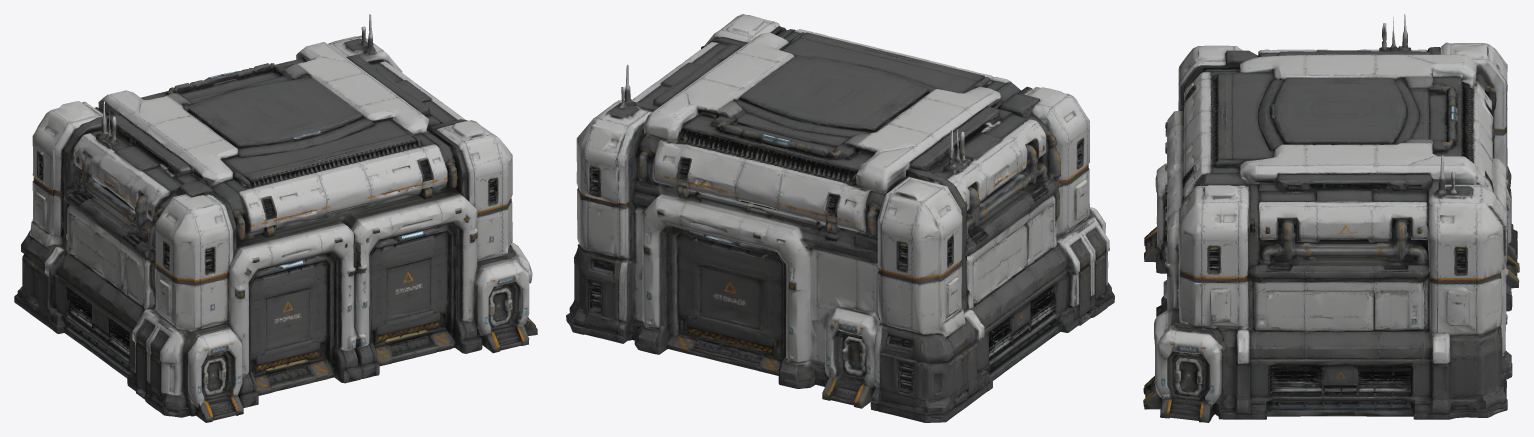
The model's file is tripo_convert_faa1667c-0a0d-4546-94ed-ecffe2d3dca9.fbx.
The picture shows the model from 3 angles, left to right: view 1: azimuth 30°, elevation 25°; view 2: azimuth 150°, elevation 25°; view 3: azimuth 270°, elevation 25°; orthographic projection. The views are drawn at different scales.
Visible parts, largest first — view 1: tripo_node_faa1667c; view 2: tripo_node_faa1667c; view 3: tripo_node_faa1667c.
Part boxes in pixels (left/top/right/bottom): tripo_node_faa1667c: left=14, top=14, right=537, bottom=422; tripo_node_faa1667c: left=566, top=14, right=1114, bottom=422; tripo_node_faa1667c: left=1143, top=14, right=1519, bottom=422.
Bounding box in the file's own units: 1 × 0.5922 × 0.8235.
Materials: 1 (1 with a texture image).
